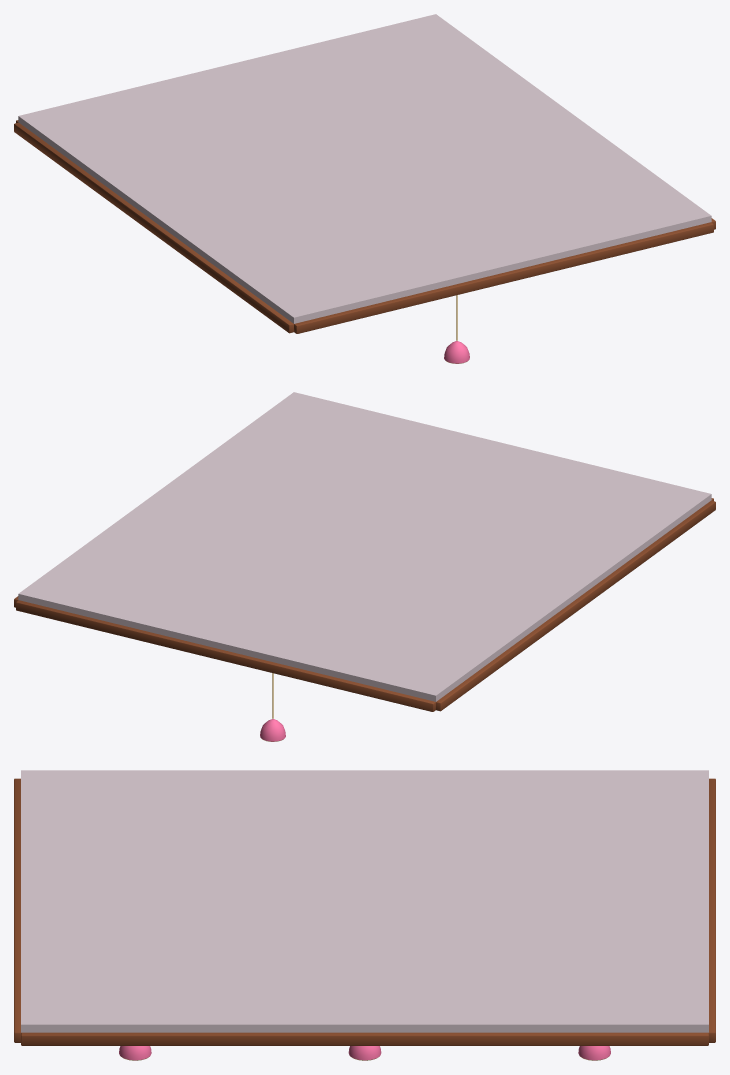
File: CeilingCandy.fbx
The picture shows the model from 3 angles, top to bottom: view 1: azimuth 30°, elevation 25°; view 2: azimuth 150°, elevation 25°; view 3: azimuth 270°, elevation 25°; orthographic projection. The views are drawn at different scales.
Parts seen in each view (by area): view 1: CeilingCandy; view 2: CeilingCandy; view 3: CeilingCandy.
Part boxes in pixels (x1,y1,x2,y2): CeilingCandy: [14, 14, 715, 363]; CeilingCandy: [14, 392, 715, 741]; CeilingCandy: [14, 770, 715, 1060].
Bounding box in the file's own units: 7160 × 2020 × 8160.
